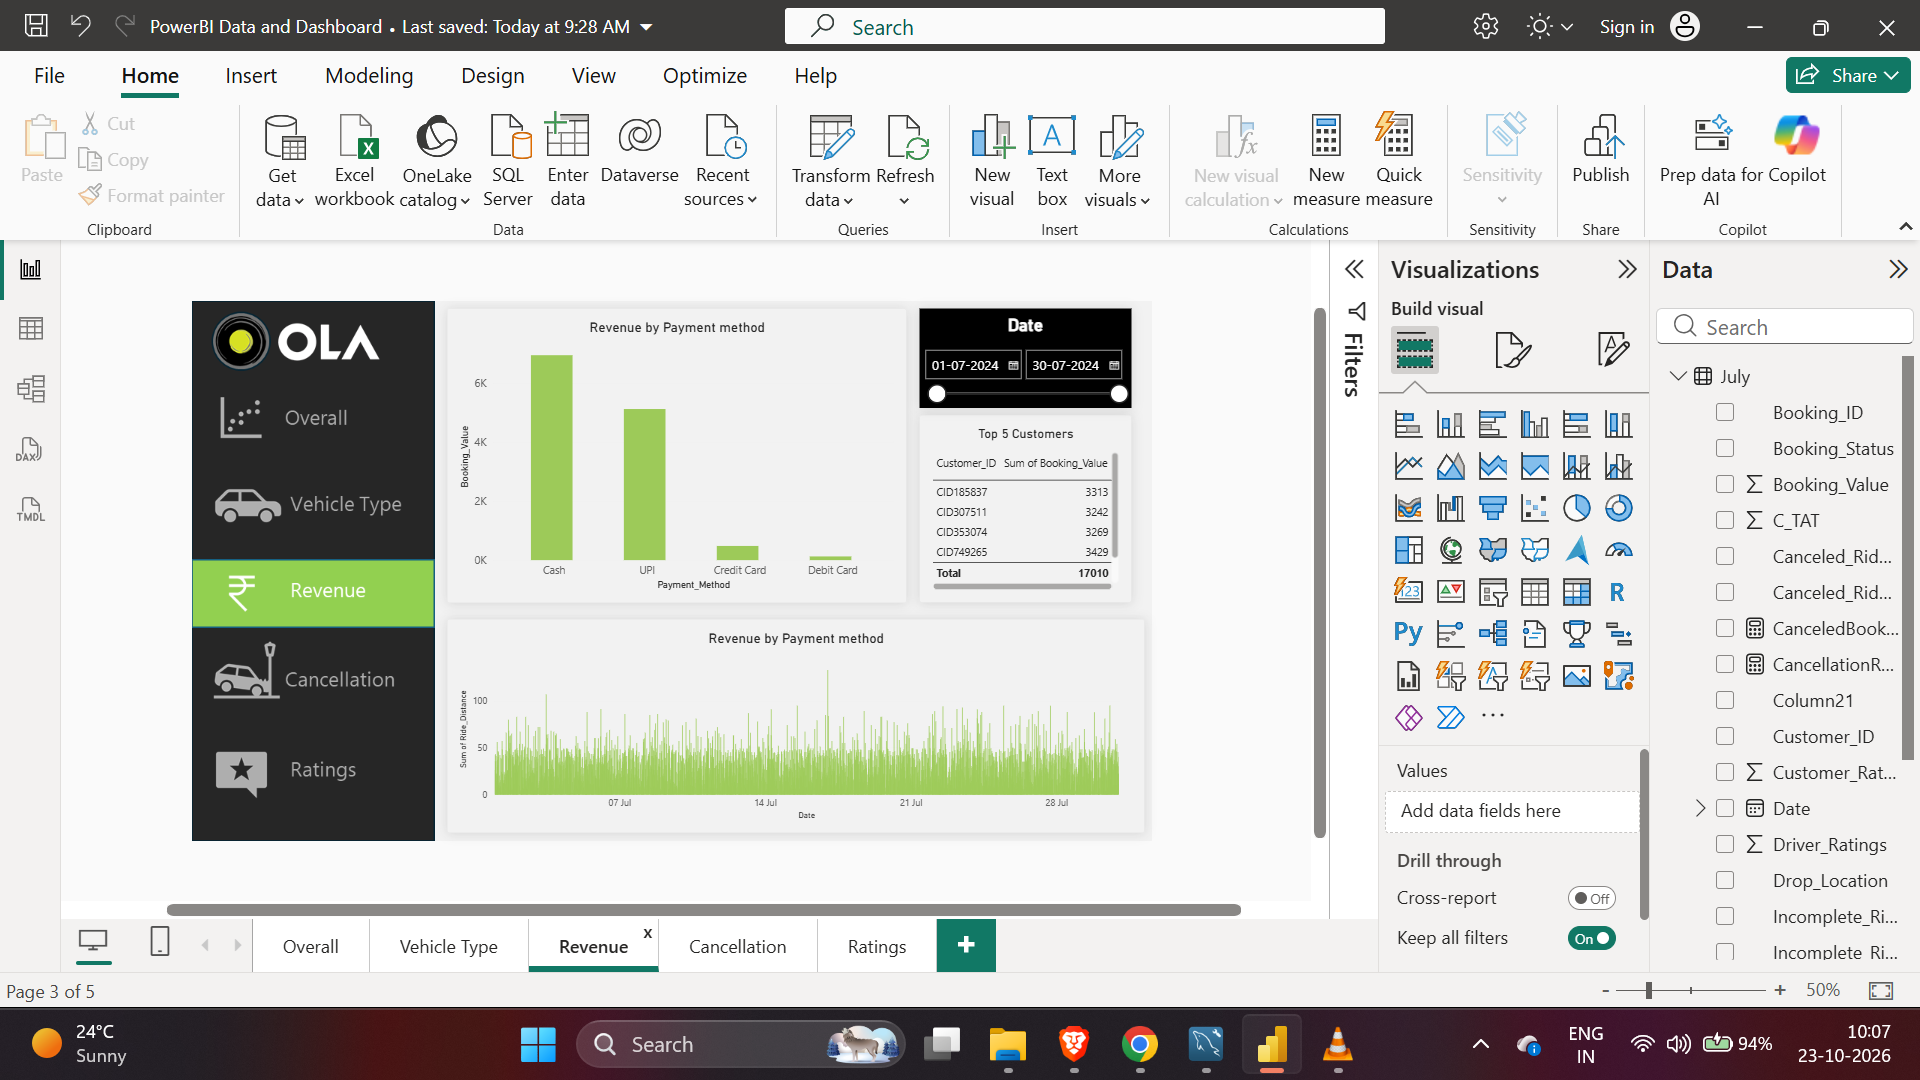

Layout of this report page (visuals, bound fields, positions):
{"tool":"powerbi","page":{"name":"Revenue","canvas":[1920,1080],"ordinal":2},"visuals":[{"type":"actionButton","box":[317.3,403.2,324.5,85.9],"z":0},{"type":"actionButton","box":[317.3,515.4,324.5,85.9],"z":1000},{"type":"actionButton","box":[317.3,620.3,324.5,97.8],"z":2000},{"type":"actionButton","box":[317.3,756.3,324.5,97.8],"z":3000},{"type":"actionButton","box":[317.3,291.1,324.5,85.9],"z":4000},{"type":"columnChart","title":"Revenue by Payment method","fields":{"Category":["July.Payment_Method"],"Y":["CountNonNull(July.Booking_Value)"]},"box":[660,185,612.5,392.5],"z":4001},{"type":"columnChart","title":"Revenue by Payment method","fields":{"Category":["July.Date"],"Y":["Sum(July.Ride_Distance)"]},"box":[660,600,930,285],"z":4002},{"type":"slicer","title":"Date","fields":{"Values":["July.Date"]},"box":[1290,185,282.5,132.5],"z":4003},{"type":"tableEx","title":"Top 5 Customers","fields":{"Values":["July.Customer_ID","Sum(July.Booking_Value)"]},"box":[1290,327.5,282.5,250],"z":4004}]}

Visuals, with their boxes on the page's 1920x1080 design canvas (x1, y1, x2, y2). These are canvas units, not pixel positions in the 1920x1080 screenshot, which may show the page scaled, cropped or inside an application window:
actionButton: 317/403/642/489
actionButton: 317/515/642/601
actionButton: 317/620/642/718
actionButton: 317/756/642/854
actionButton: 317/291/642/377
"Revenue by Payment method" columnChart: 660/185/1272/578
"Revenue by Payment method" columnChart: 660/600/1590/885
"Date" slicer: 1290/185/1572/318
"Top 5 Customers" tableEx: 1290/328/1572/578
